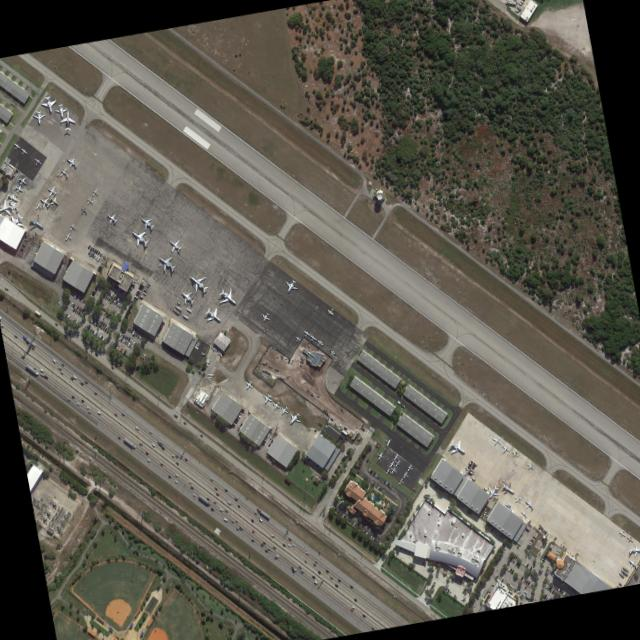large-vehicle: (26, 363, 40, 375), (257, 506, 271, 518), (22, 334, 36, 345), (124, 437, 137, 448), (199, 494, 212, 505), (621, 568, 629, 574), (506, 0, 517, 4), (175, 304, 182, 310), (35, 309, 42, 315), (623, 565, 629, 571), (173, 308, 180, 313), (525, 593, 531, 598), (505, 502, 511, 507), (183, 313, 189, 318), (619, 571, 625, 576), (186, 307, 192, 311)
plane: (215, 282, 242, 311), (184, 268, 211, 297), (155, 250, 179, 275), (446, 435, 470, 459), (203, 302, 226, 327), (128, 225, 151, 249), (27, 211, 47, 234), (165, 234, 184, 255), (178, 286, 197, 307), (285, 407, 304, 427), (138, 212, 157, 232), (500, 478, 518, 498), (484, 481, 502, 501), (282, 276, 300, 295), (41, 94, 58, 114), (0, 196, 16, 217), (61, 108, 76, 130), (105, 209, 120, 226), (64, 153, 79, 169), (38, 193, 52, 210), (260, 391, 275, 406), (7, 197, 21, 213), (45, 182, 59, 198), (32, 109, 46, 124), (55, 102, 68, 118), (6, 190, 20, 204), (259, 309, 272, 324), (523, 496, 536, 511), (48, 193, 61, 208), (270, 398, 283, 412), (627, 556, 640, 570), (499, 441, 512, 455), (17, 173, 30, 187), (629, 541, 640, 557), (278, 403, 291, 416), (243, 377, 255, 391), (491, 433, 503, 446), (59, 165, 71, 178), (32, 155, 43, 167), (14, 183, 25, 194), (513, 493, 523, 505), (79, 204, 89, 215), (519, 507, 529, 518), (526, 460, 536, 471), (510, 447, 520, 458), (315, 337, 325, 347), (375, 449, 384, 460), (91, 186, 100, 197), (216, 347, 225, 357), (302, 328, 311, 338), (86, 195, 95, 205), (64, 231, 73, 241), (326, 306, 336, 315), (392, 452, 401, 461), (388, 459, 397, 468), (19, 146, 28, 155), (12, 141, 21, 150), (389, 464, 397, 474), (69, 221, 77, 231), (393, 457, 401, 467), (402, 469, 410, 479), (384, 436, 392, 446), (384, 465, 392, 475), (309, 333, 317, 342), (410, 484, 418, 493), (619, 528, 628, 536), (626, 534, 635, 542), (406, 463, 414, 472), (35, 201, 43, 210), (211, 343, 219, 351), (398, 476, 405, 485), (294, 335, 302, 342), (329, 348, 336, 356), (207, 372, 215, 378), (205, 357, 210, 366)
small-vehicle: (291, 565, 297, 571), (157, 439, 163, 445), (258, 516, 263, 521), (270, 532, 275, 537), (314, 579, 319, 584), (337, 577, 342, 582), (517, 5, 522, 10), (52, 357, 57, 362), (357, 434, 361, 440), (123, 348, 127, 354), (513, 553, 517, 558), (528, 553, 532, 558), (562, 590, 566, 595), (378, 540, 382, 545), (333, 506, 337, 511), (509, 567, 513, 572), (538, 524, 542, 529), (151, 442, 156, 446), (135, 425, 140, 429), (352, 604, 356, 609), (227, 500, 232, 504), (300, 569, 305, 573), (276, 553, 280, 558), (334, 582, 338, 587), (312, 561, 316, 566), (224, 516, 228, 521), (239, 525, 243, 530), (128, 286, 133, 290), (127, 288, 132, 292), (89, 246, 93, 251), (95, 249, 99, 254), (201, 351, 206, 355), (290, 358, 294, 363), (369, 469, 373, 474), (57, 365, 62, 369), (40, 367, 44, 372), (44, 374, 49, 378), (72, 374, 77, 378), (80, 380, 84, 385), (339, 499, 343, 504), (102, 321, 106, 326), (67, 299, 71, 304), (73, 293, 77, 298), (116, 343, 120, 348), (75, 318, 79, 323), (261, 441, 265, 445), (531, 536, 535, 540), (530, 538, 534, 542), (526, 545, 530, 549), (559, 588, 563, 592), (363, 529, 367, 533), (340, 511, 344, 515), (336, 509, 340, 513), (371, 625, 375, 629), (491, 582, 495, 586), (524, 589, 528, 593), (233, 421, 237, 425), (175, 479, 179, 483), (147, 457, 151, 461), (237, 425, 241, 429), (269, 434, 273, 438), (235, 417, 239, 421), (239, 410, 243, 414), (472, 476, 476, 480), (484, 486, 488, 490), (490, 527, 494, 531), (171, 453, 175, 457), (473, 461, 477, 465), (472, 463, 476, 467), (500, 534, 504, 538), (469, 460, 473, 464), (470, 467, 474, 471), (469, 469, 473, 473), (618, 581, 622, 585), (362, 613, 366, 617), (224, 487, 228, 491), (215, 491, 219, 495), (273, 545, 277, 549), (274, 555, 278, 559), (299, 564, 303, 568), (267, 546, 271, 550), (292, 542, 296, 546), (329, 575, 333, 579), (325, 568, 329, 572), (288, 536, 292, 540), (287, 542, 291, 546), (312, 574, 316, 578), (282, 542, 286, 546), (306, 550, 310, 554), (251, 538, 255, 542), (252, 528, 256, 532), (235, 518, 239, 522), (225, 508, 229, 512), (220, 507, 224, 511), (211, 507, 215, 511), (213, 499, 217, 503), (125, 312, 129, 316), (124, 314, 128, 318), (155, 332, 159, 336), (127, 309, 131, 313), (128, 307, 132, 311), (136, 290, 140, 294), (135, 294, 139, 298), (117, 286, 121, 290), (97, 281, 101, 285), (94, 285, 98, 289), (118, 336, 122, 340), (140, 294, 144, 298), (515, 8, 519, 12), (300, 358, 304, 362), (519, 1, 523, 5), (98, 265, 102, 269), (5, 286, 9, 290), (146, 283, 150, 287), (87, 244, 91, 248), (92, 290, 96, 294), (121, 411, 125, 415), (88, 409, 92, 413), (300, 356, 304, 360), (311, 391, 315, 395), (98, 410, 102, 414), (87, 405, 91, 409), (70, 375, 74, 379), (41, 372, 45, 376), (84, 379, 88, 383), (67, 397, 71, 401), (71, 394, 75, 398), (77, 401, 81, 405), (81, 398, 85, 402), (14, 333, 18, 337), (342, 456, 346, 460), (343, 468, 347, 472), (344, 452, 348, 456), (105, 313, 109, 317), (100, 310, 104, 314), (33, 365, 37, 369), (54, 321, 58, 325), (177, 300, 181, 304), (88, 326, 92, 330), (526, 562, 529, 567), (547, 578, 550, 583), (552, 588, 555, 593), (517, 562, 520, 567), (516, 560, 519, 565), (365, 530, 368, 535), (351, 519, 354, 524), (511, 568, 514, 573), (240, 421, 243, 426), (271, 438, 274, 443), (266, 445, 269, 450), (145, 338, 148, 343), (132, 329, 135, 334), (130, 328, 133, 333), (136, 275, 139, 280), (134, 274, 137, 279), (128, 336, 131, 341), (110, 292, 113, 297), (119, 297, 122, 302), (117, 296, 120, 301), (114, 294, 117, 299), (120, 299, 123, 304), (127, 341, 130, 346), (124, 334, 127, 339), (122, 333, 125, 338), (131, 343, 134, 348), (124, 338, 127, 343), (15, 168, 18, 173), (99, 251, 102, 256), (94, 248, 97, 253), (97, 250, 100, 255), (90, 251, 93, 256), (91, 252, 94, 257), (287, 358, 290, 363), (373, 471, 376, 476), (377, 474, 380, 479), (379, 486, 382, 491), (387, 481, 390, 486), (388, 482, 391, 487), (106, 323, 109, 328), (106, 328, 109, 333), (104, 327, 107, 332), (79, 296, 82, 301), (75, 294, 78, 299), (120, 346, 123, 351), (113, 299, 116, 304), (100, 324, 103, 329), (78, 305, 81, 310), (67, 313, 70, 318), (90, 318, 93, 323), (102, 335, 105, 340), (99, 333, 102, 338), (83, 298, 86, 303), (532, 535, 536, 538), (529, 540, 533, 543), (528, 542, 532, 545), (527, 544, 531, 547), (515, 554, 518, 558), (527, 552, 530, 556), (530, 572, 533, 576), (529, 566, 532, 570), (546, 594, 549, 598), (545, 583, 548, 587), (547, 585, 550, 589), (493, 562, 497, 565), (501, 549, 505, 552), (553, 583, 556, 587), (554, 584, 557, 588), (558, 587, 561, 591), (550, 587, 553, 591), (561, 589, 564, 593), (556, 592, 559, 596), (554, 590, 557, 594), (353, 521, 356, 525), (374, 537, 377, 541), (348, 518, 351, 522), (342, 513, 345, 517), (375, 538, 378, 542), (399, 555, 402, 559), (527, 580, 530, 584), (506, 565, 509, 569), (521, 575, 524, 579), (524, 578, 527, 582), (526, 579, 529, 583), (531, 582, 534, 586), (525, 584, 528, 588), (520, 592, 523, 596), (517, 589, 520, 593), (501, 578, 504, 582), (506, 581, 509, 585), (545, 577, 548, 581), (538, 551, 541, 555), (232, 423, 235, 427), (210, 476, 213, 480), (200, 432, 203, 436), (183, 420, 187, 423), (175, 473, 179, 476), (168, 474, 172, 477), (160, 462, 164, 465), (139, 442, 143, 445), (245, 414, 248, 418), (176, 460, 179, 464), (268, 442, 271, 446), (264, 436, 268, 439), (265, 434, 269, 437), (263, 438, 267, 441), (236, 415, 239, 419), (234, 419, 237, 423), (241, 407, 245, 410), (240, 409, 244, 412), (237, 414, 241, 417), (175, 453, 178, 457), (542, 557, 545, 561), (544, 530, 547, 534), (445, 492, 448, 496), (546, 531, 549, 535), (543, 529, 546, 533), (496, 531, 499, 535), (541, 527, 544, 531), (540, 526, 543, 530), (556, 551, 560, 554), (161, 445, 165, 448), (149, 429, 152, 433), (350, 608, 354, 611), (214, 486, 218, 489), (234, 497, 238, 500), (251, 517, 254, 521), (254, 510, 257, 514), (349, 584, 353, 587), (318, 569, 321, 573), (314, 559, 318, 562), (304, 558, 307, 562), (265, 549, 269, 552), (261, 542, 264, 546), (231, 519, 235, 522), (206, 497, 210, 500), (193, 492, 196, 496), (310, 474, 313, 478), (311, 459, 314, 463), (126, 311, 130, 314), (157, 328, 161, 331), (156, 330, 160, 333), (141, 335, 144, 339), (139, 334, 142, 338), (137, 333, 140, 337), (135, 332, 138, 336), (133, 332, 136, 336), (129, 327, 132, 331), (129, 305, 132, 309), (139, 285, 143, 288), (138, 287, 142, 290), (133, 279, 137, 282), (132, 281, 136, 284), (133, 298, 137, 301), (136, 292, 139, 296), (134, 296, 138, 299), (127, 327, 130, 331), (129, 337, 132, 341), (115, 300, 118, 304), (108, 296, 111, 300), (94, 287, 98, 290), (119, 287, 122, 291), (126, 335, 129, 339), (121, 332, 124, 336), (119, 331, 122, 335), (129, 343, 132, 347), (126, 340, 129, 344), (123, 289, 126, 293), (122, 338, 125, 342), (120, 337, 123, 341), (117, 334, 120, 338), (124, 290, 127, 294), (140, 283, 144, 286), (143, 291, 147, 294), (447, 588, 450, 592), (449, 590, 452, 594), (143, 289, 147, 292), (97, 268, 101, 271), (20, 247, 24, 250), (22, 243, 26, 246), (97, 256, 100, 260), (159, 261, 162, 265), (140, 264, 143, 268), (95, 254, 98, 258), (92, 247, 95, 251), (93, 253, 96, 257), (88, 250, 91, 254), (93, 289, 97, 292), (91, 292, 95, 295), (118, 435, 121, 439), (174, 413, 177, 417), (94, 390, 97, 394), (377, 485, 380, 489), (385, 480, 388, 484), (341, 458, 345, 461), (338, 463, 341, 467), (336, 466, 339, 470), (332, 473, 335, 477), (346, 451, 349, 455), (318, 464, 321, 468), (316, 462, 319, 466), (308, 456, 311, 460), (309, 458, 312, 462), (330, 416, 333, 420), (400, 511, 403, 515), (392, 508, 396, 511), (366, 458, 369, 462), (368, 467, 371, 471), (338, 423, 342, 426), (357, 470, 360, 474), (344, 426, 348, 429), (22, 354, 25, 358), (90, 294, 94, 297), (100, 320, 103, 324), (107, 314, 110, 318), (94, 316, 97, 320), (97, 318, 100, 322), (107, 325, 110, 329), (102, 326, 105, 330), (116, 311, 119, 315), (120, 304, 123, 308), (118, 303, 121, 307), (117, 301, 120, 305), (96, 321, 99, 325), (82, 307, 85, 311), (80, 311, 83, 315), (78, 310, 81, 314), (76, 309, 79, 313), (72, 307, 75, 311), (71, 301, 74, 305), (76, 305, 79, 309), (92, 320, 95, 324), (100, 335, 103, 339), (196, 343, 200, 346), (97, 332, 100, 336), (95, 331, 98, 335), (93, 330, 96, 334), (90, 328, 93, 332), (112, 298, 114, 303), (105, 294, 107, 299), (13, 172, 15, 177), (0, 186, 2, 191), (384, 479, 386, 484), (100, 300, 102, 305), (81, 297, 83, 302), (73, 302, 75, 307), (556, 586, 559, 589), (372, 536, 375, 539), (370, 535, 373, 538), (511, 557, 514, 560), (189, 480, 192, 483), (191, 485, 194, 488), (146, 451, 149, 454), (263, 439, 266, 442), (448, 495, 451, 498), (447, 493, 450, 496), (557, 549, 560, 552), (549, 545, 552, 548), (471, 465, 474, 468), (470, 459, 473, 462), (465, 466, 468, 469), (354, 597, 357, 600), (237, 503, 240, 506), (263, 540, 266, 543), (237, 527, 240, 530), (262, 440, 265, 443), (130, 285, 133, 288), (138, 288, 141, 291), (96, 283, 99, 286), (25, 237, 28, 240), (1, 323, 4, 326), (147, 282, 150, 285), (114, 412, 117, 415), (61, 362, 64, 365), (335, 468, 338, 471), (341, 460, 344, 463), (337, 465, 340, 468), (384, 521, 387, 524), (360, 473, 363, 476), (356, 463, 359, 466), (362, 427, 365, 430), (60, 370, 63, 373), (104, 323, 107, 326), (99, 324, 102, 327), (111, 365, 114, 368), (72, 317, 75, 320), (65, 313, 68, 316), (94, 321, 97, 324), (197, 341, 200, 344), (517, 556, 519, 560), (549, 580, 551, 584), (513, 558, 515, 562), (358, 525, 360, 529), (498, 531, 500, 535), (109, 292, 111, 296), (107, 295, 109, 299), (11, 174, 13, 178), (520, 0, 524, 2), (364, 475, 366, 479), (102, 302, 104, 306), (113, 310, 115, 314), (58, 298, 60, 302), (75, 308, 77, 312), (74, 318, 76, 322), (92, 329, 94, 333), (185, 457, 187, 460), (100, 264, 103, 266), (111, 309, 113, 312), (80, 307, 82, 310), (356, 470, 358, 472)
